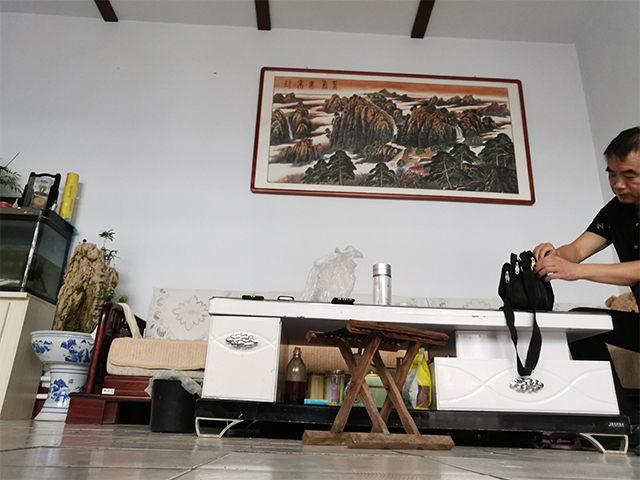cabinet: (1, 290, 59, 421)
sofa: (63, 286, 214, 426)
stool: (300, 317, 459, 451)
table: (193, 295, 632, 456)
trashcan: (148, 377, 201, 434)
